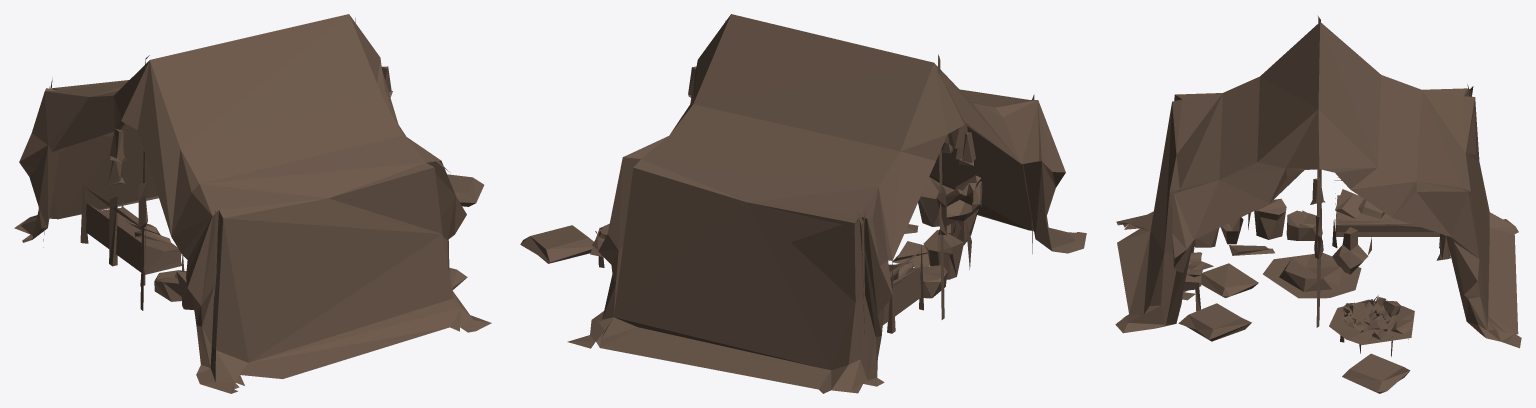
The model's file is camp-gear.lod0.glb.
3 views of the same model, side by side, from view 1: azimuth 30°, elevation 25°; view 2: azimuth 150°, elevation 25°; view 3: azimuth 270°, elevation 25° (orthographic). The views are drawn at different scales.
Parts seen in each view (by area): view 1: Object_4; view 2: Object_4; view 3: Object_4.
Part boxes in pixels (box(x1,y1,x2,y2)): Object_4: box(14, 14, 491, 393); Object_4: box(520, 14, 1086, 393); Object_4: box(1115, 15, 1521, 393).
Size of the model in its own units: 3.87 by 2.29 by 3.69.
